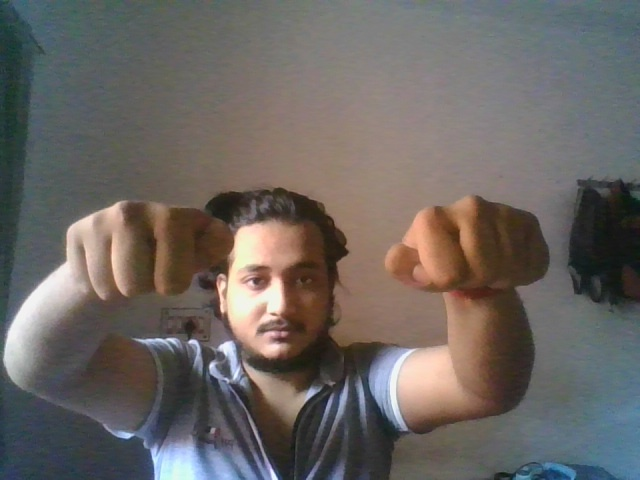Close: (65, 200, 235, 302), (385, 194, 551, 291)
